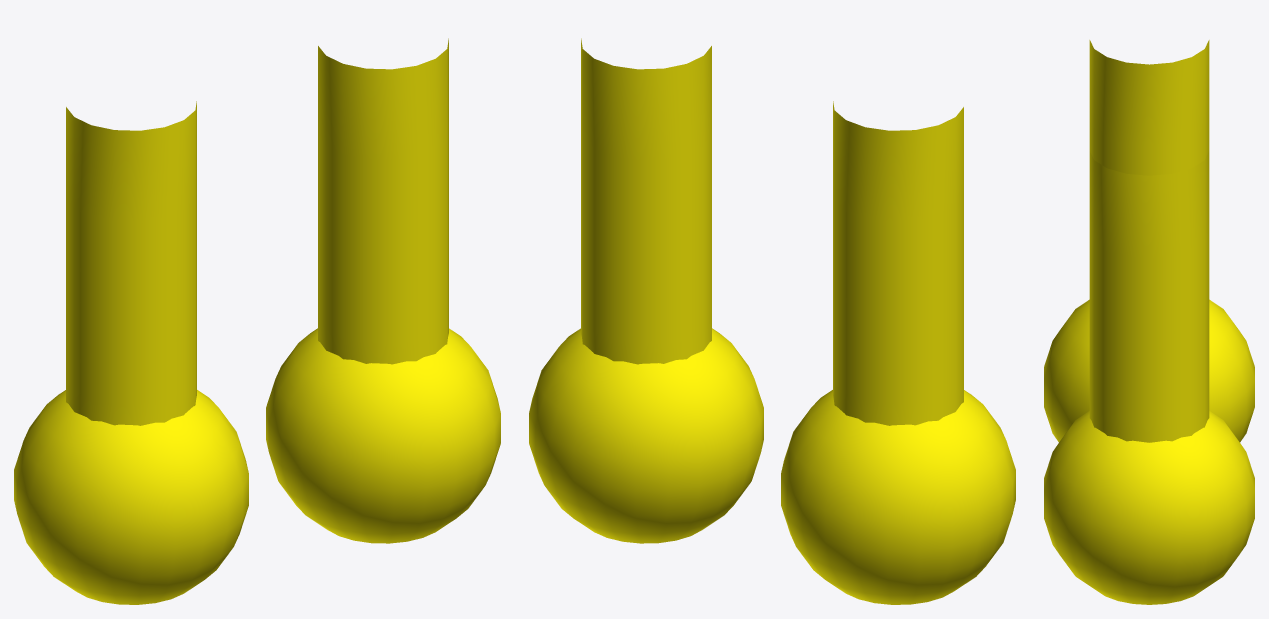
The model's file is Legs4.glb.
The picture shows the model from 3 angles, left to right: view 1: azimuth 30°, elevation 25°; view 2: azimuth 150°, elevation 25°; view 3: azimuth 270°, elevation 25°; orthographic projection. The views are drawn at different scales.
Visible parts, largest first — view 1: Legs4; view 2: Legs4; view 3: Legs4.
Boxes of the visible parts, x1,y1,x2,y2 form: Legs4: (14,38,500,604); Legs4: (529,38,1015,604); Legs4: (1044,40,1254,604).
Size of the model in its own units: 159 by 164 by 70.54.
